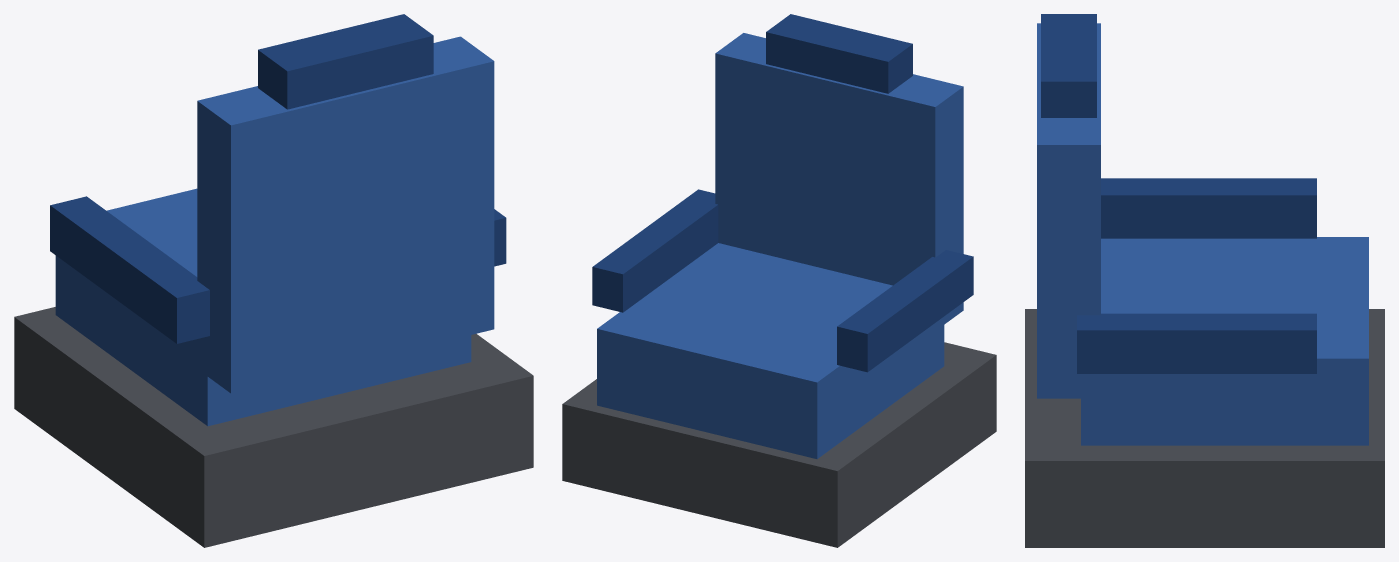
File: seat.glb
The picture shows the model from 3 angles, left to right: view 1: azimuth 30°, elevation 25°; view 2: azimuth 150°, elevation 25°; view 3: azimuth 270°, elevation 25°; orthographic projection. The views are drawn at different scales.
Visible parts, largest first — view 1: seat; view 2: seat; view 3: seat.
Boxes of the visible parts, <box> form: seat: <box>14,14,533,547</box>; seat: <box>562,14,996,547</box>; seat: <box>1025,14,1384,547</box>.
Size of the model in its own units: 0.9 by 1.17 by 0.9.
